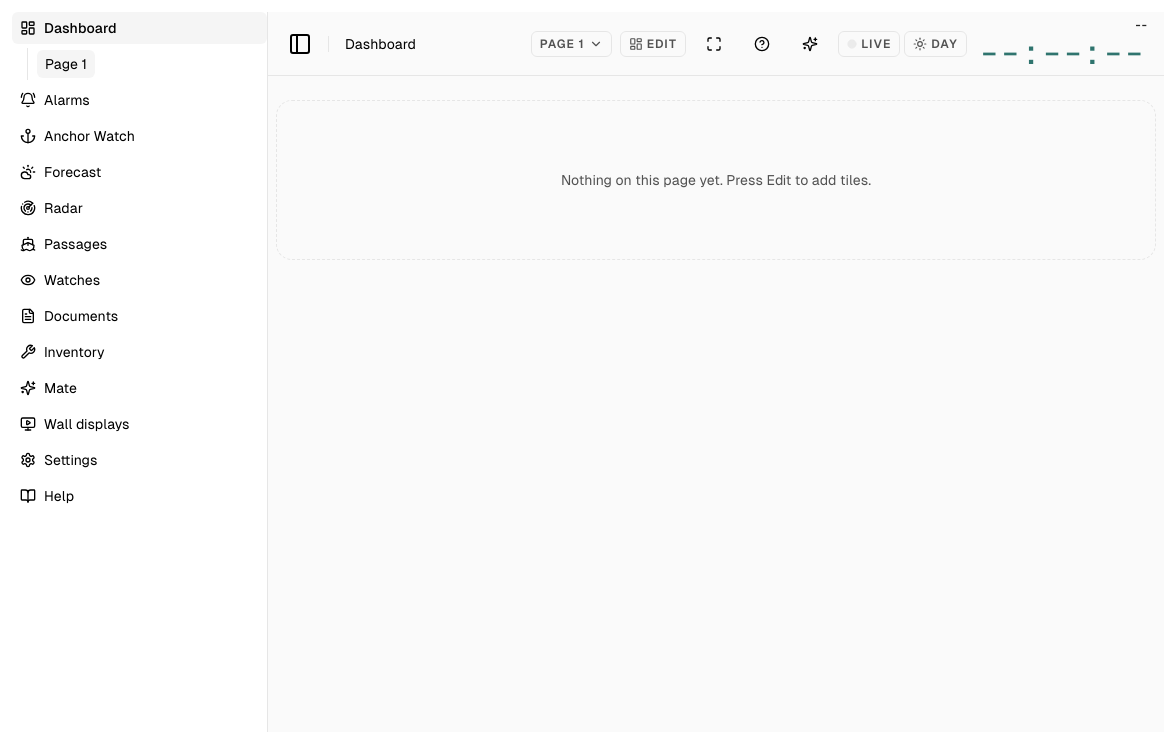
App header breadcrumb › shows a single crumb with the panel label for a panel with no section nav, and no Dashboard crumb
Step 1. Click the button "Forecast" → (140, 172), box left=12, top=156, right=267, bottom=188
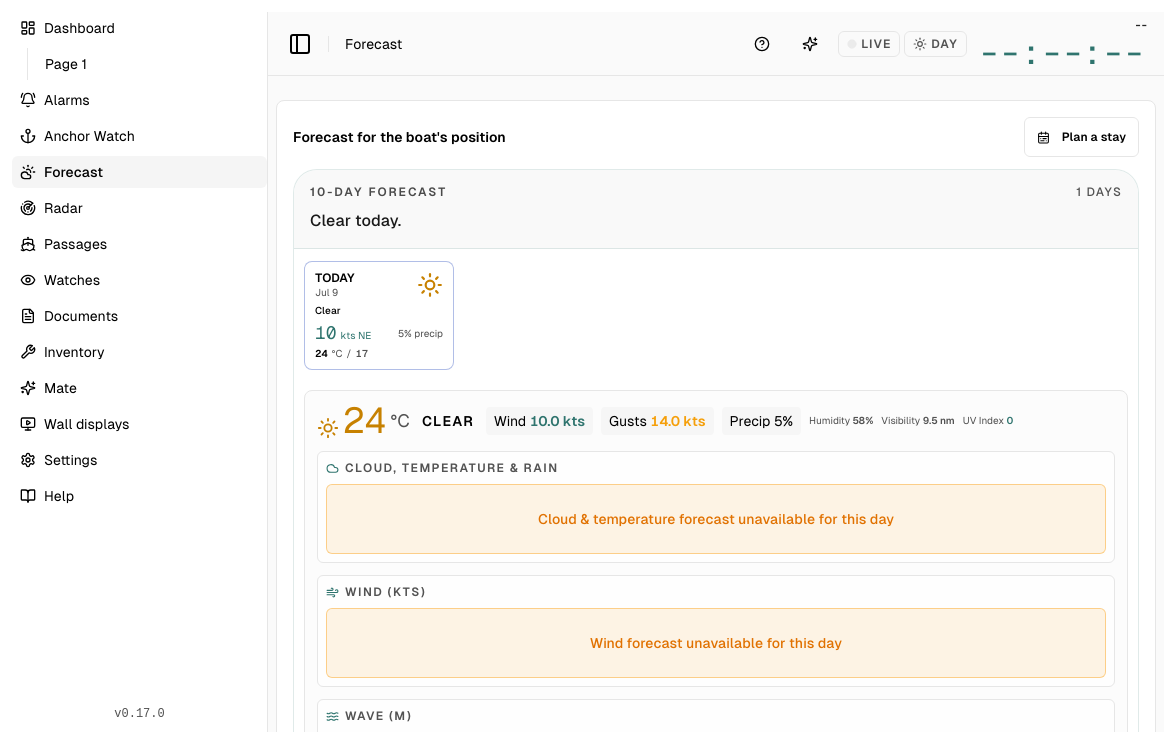
expect the link "Forecast" is shown: met, box left=345, top=34, right=402, bottom=54
